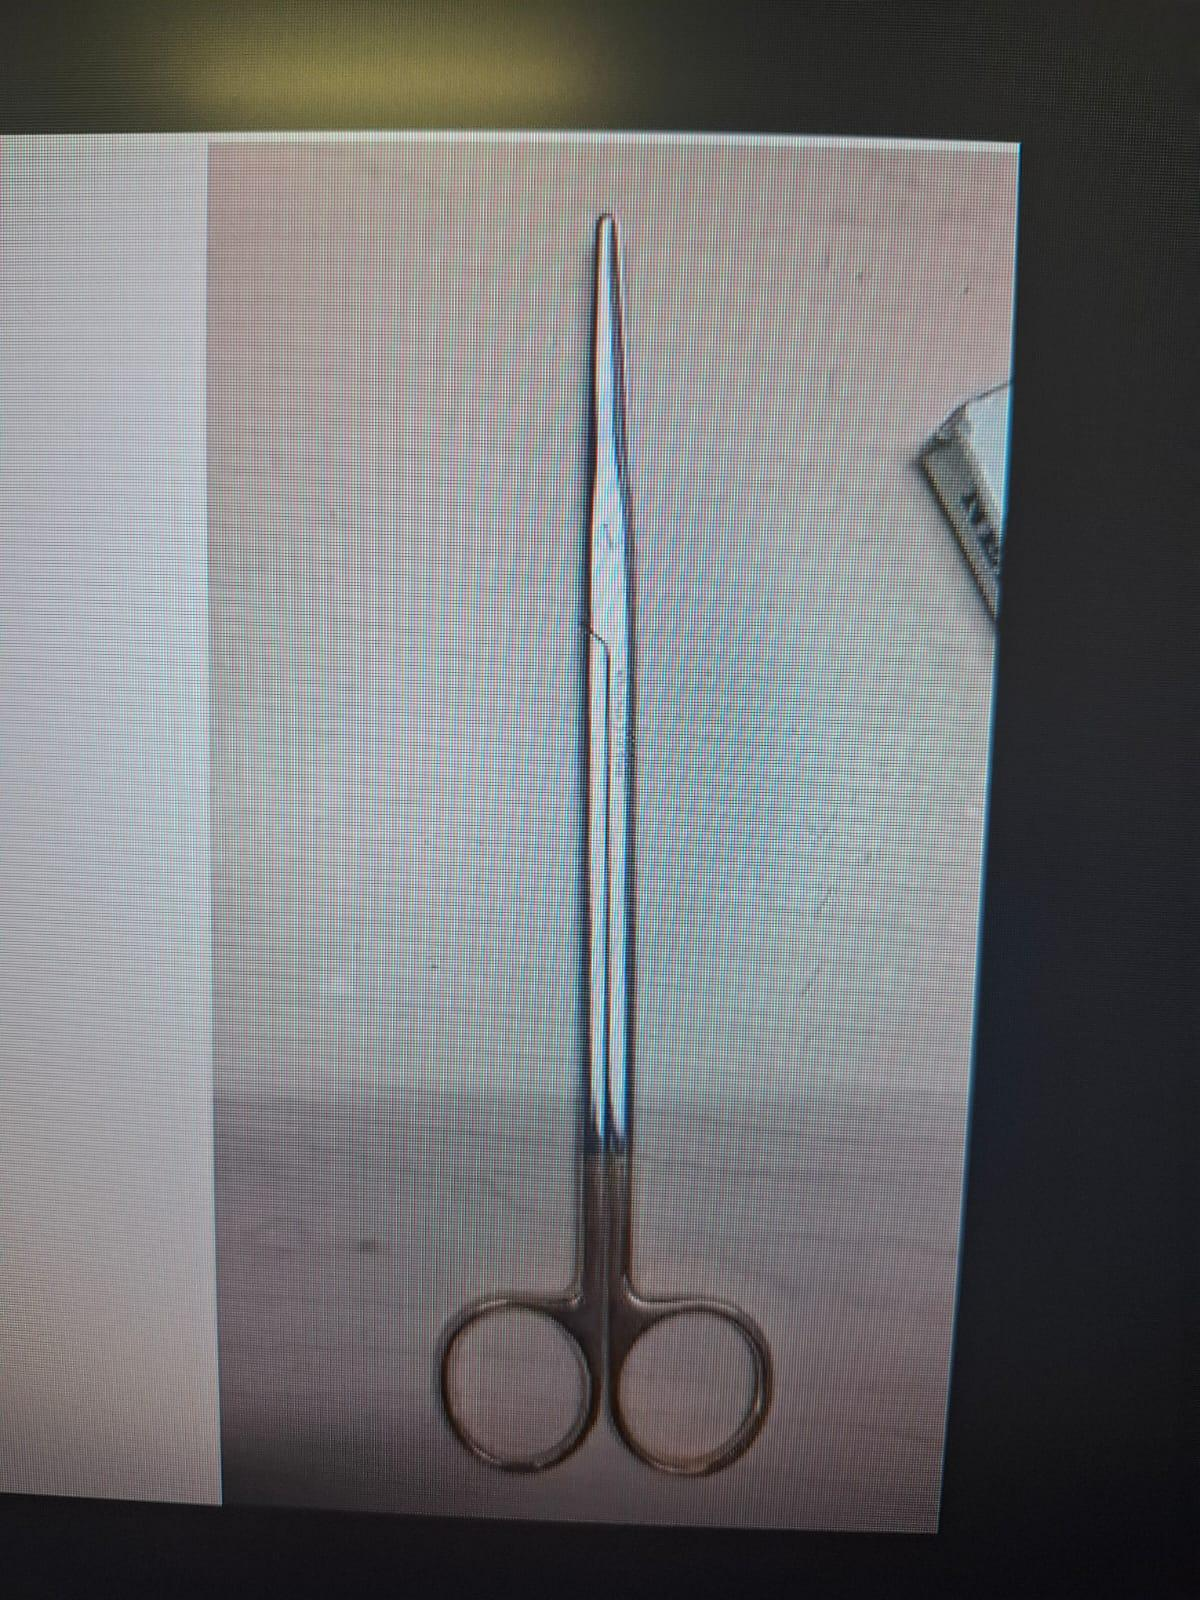Metzenbaum Sciccors: (422, 205, 788, 1485)
